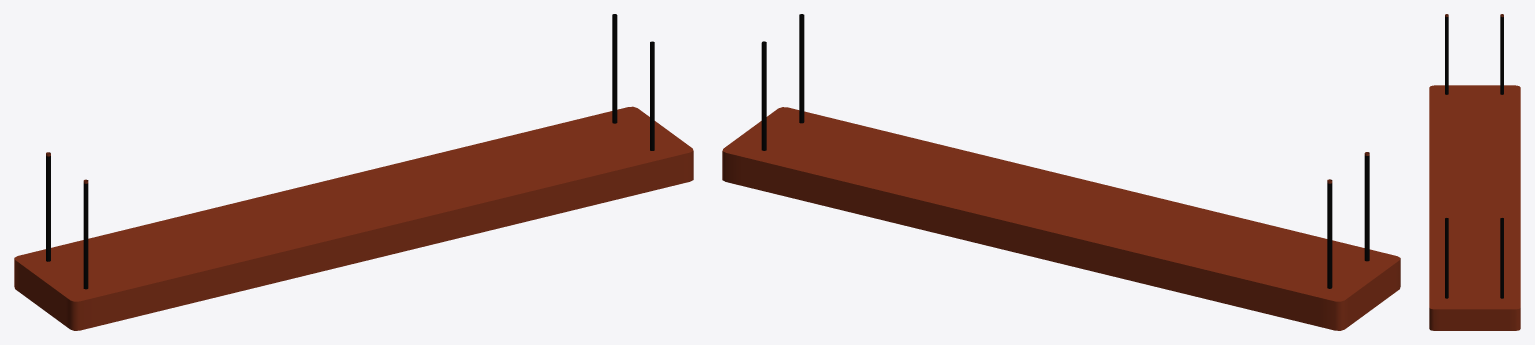
Rendered from Light_Ceiling01.dae.
3 renders of one model, left to right at view 1: azimuth 30°, elevation 25°; view 2: azimuth 150°, elevation 25°; view 3: azimuth 270°, elevation 25°, orthographic. The views are drawn at different scales.
Parts seen in each view (by area): view 1: polySurface25; view 2: polySurface25; view 3: polySurface25.
Boxes of the visible parts, x1,y1,x2,y2 form: polySurface25: (14, 14, 693, 330); polySurface25: (722, 14, 1400, 330); polySurface25: (1429, 14, 1520, 330).
Bounding box in the file's own units: 2.56 × 0.5382 × 0.4428.
Materials: 1 (1 with a texture image).
